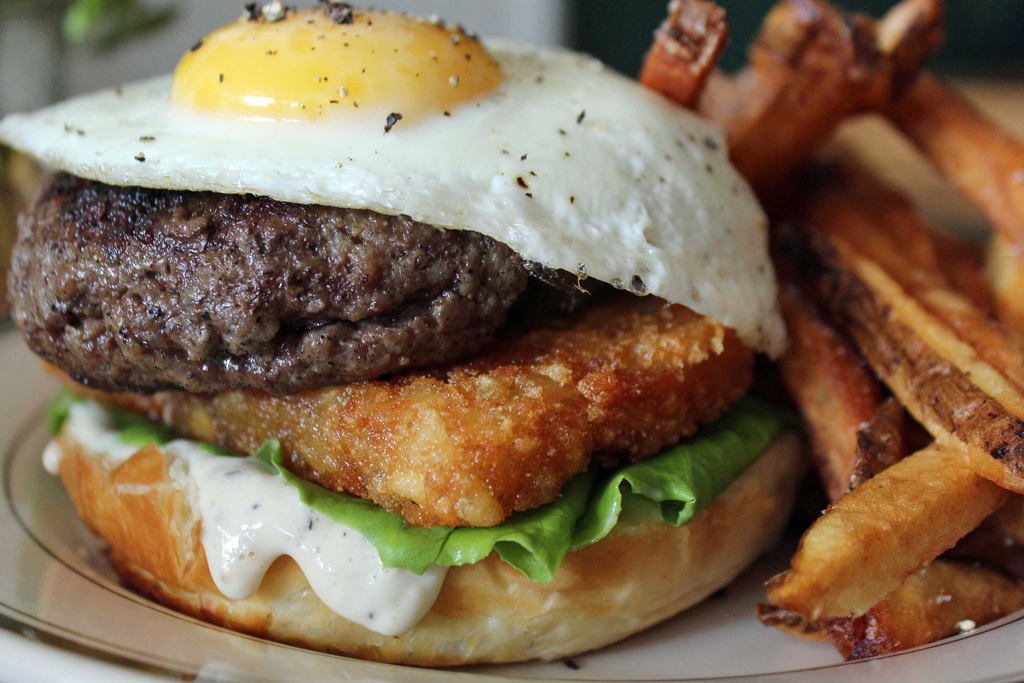chopped lettuce: (303, 472, 705, 573)
fried egg: (3, 6, 686, 216)
slice of bread: (68, 457, 815, 646)
